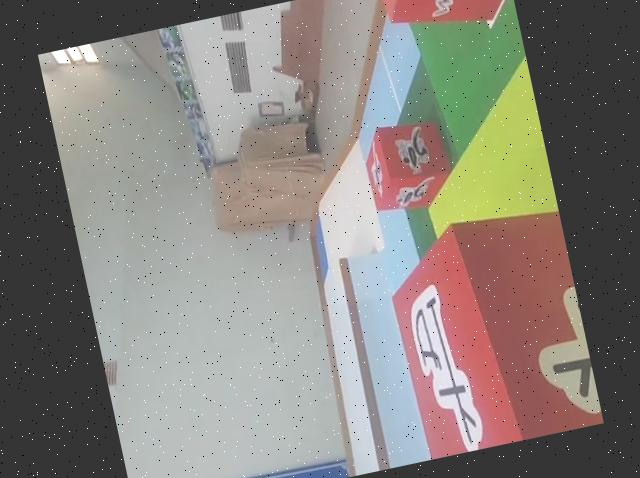R1: (357, 115, 457, 217), (372, 0, 517, 42)
R2 Real: (377, 201, 604, 461)
